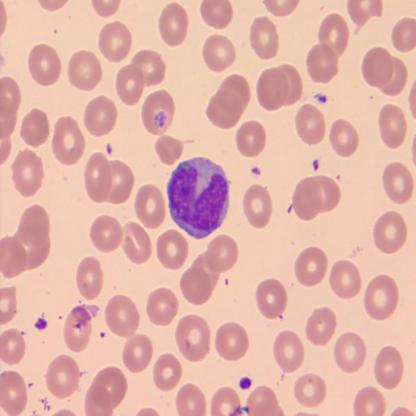Monocyte: (166, 154, 231, 240)
